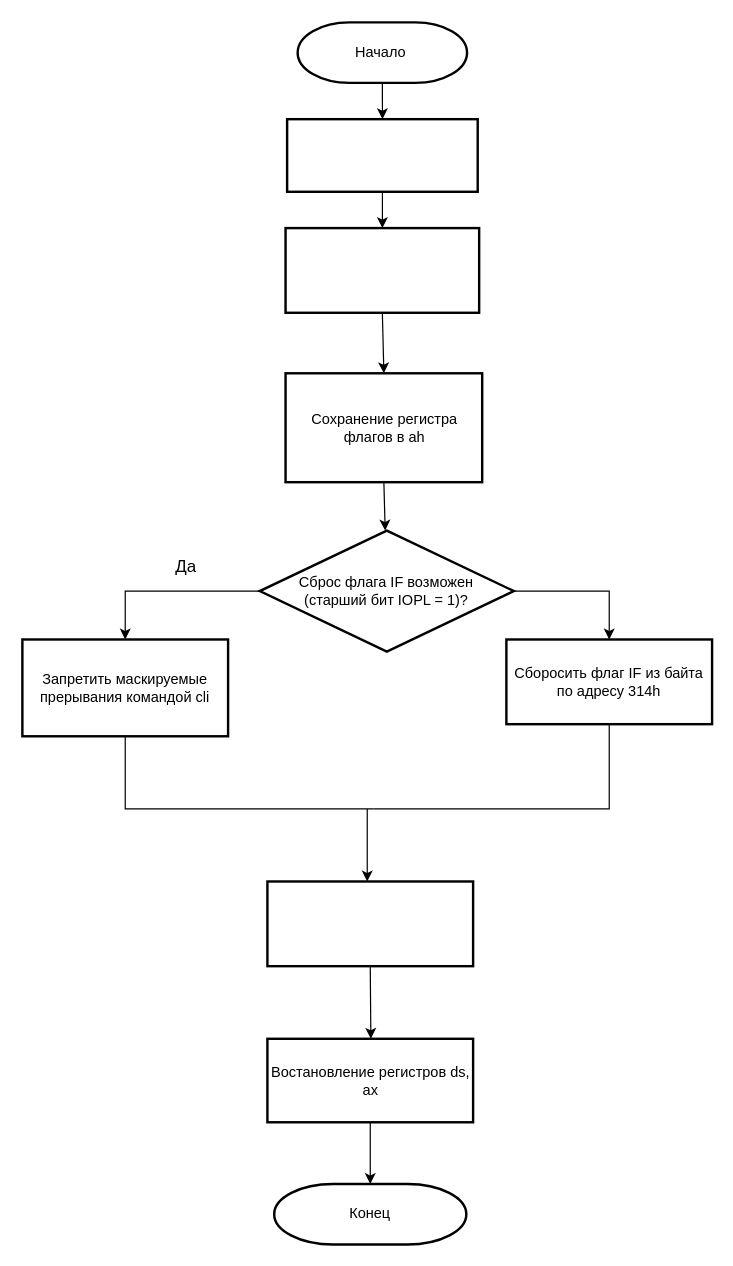
Some shapes in this 733 by 1266 pixel diagram are drawn without their labels. The centre of each missing label's shape, as x and y in pixels:
"Восстановление регистра флагов из ah" belongs at point (370, 923).
"Помещение в ds адрес BIOS" belongs at point (382, 269).
"сохранение значения регистров: ds, ax" belongs at point (381, 154).
